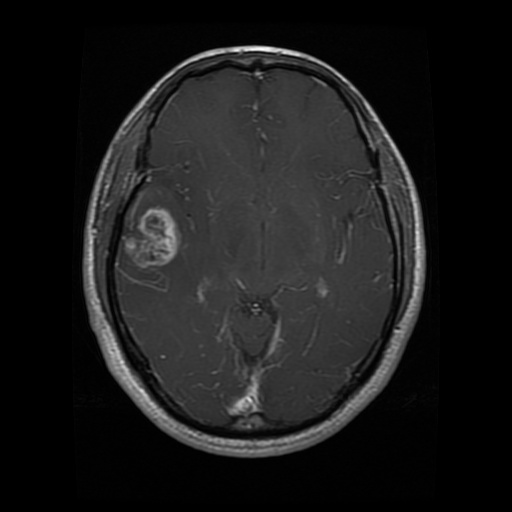glioma: (123, 206, 182, 268)
